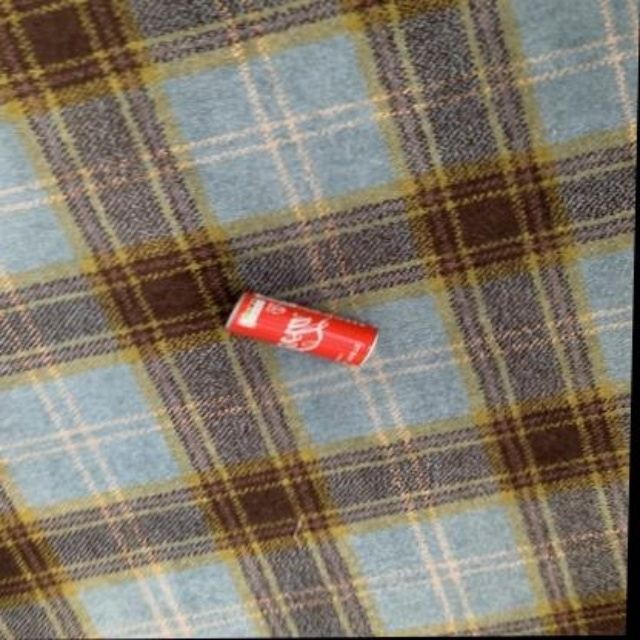trash: (226, 292, 377, 365)
